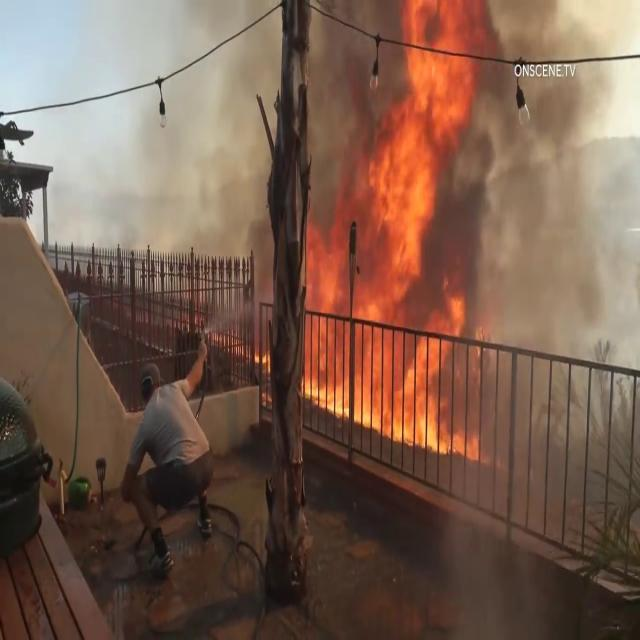Fire: (304, 223, 474, 443)
Smoke: (230, 1, 628, 315)
